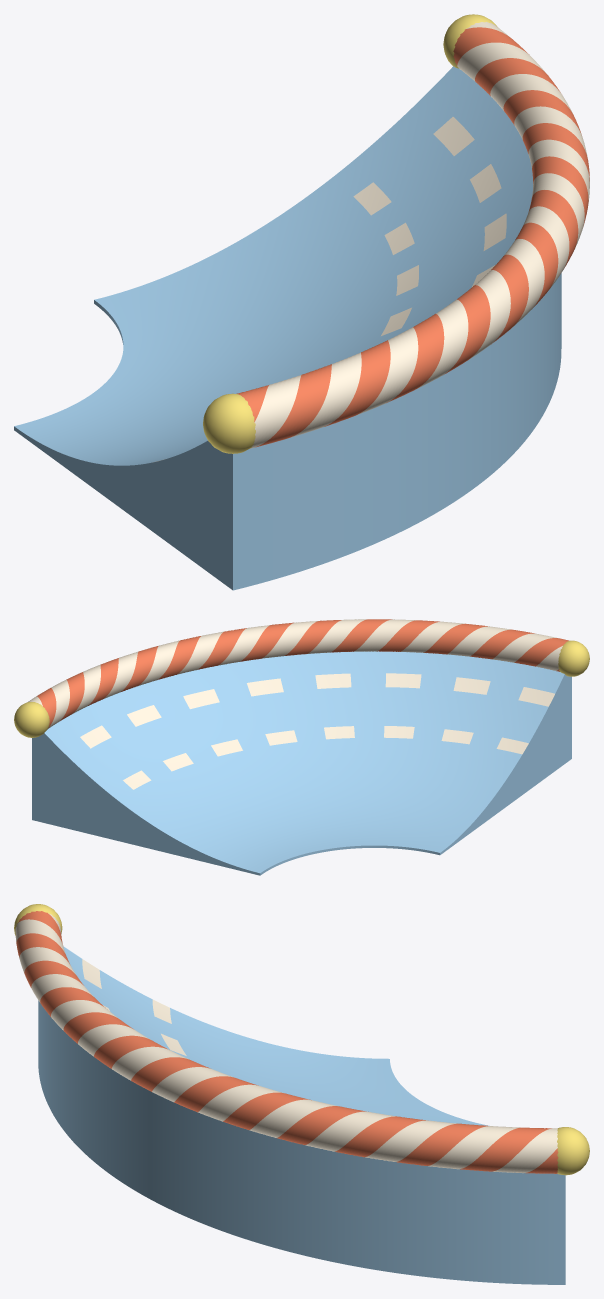
The model's file is rail_curve.glb.
3 views of the same model, one above another, from view 1: azimuth 30°, elevation 25°; view 2: azimuth 150°, elevation 25°; view 3: azimuth 270°, elevation 25° (orthographic). The views are drawn at different scales.
Parts seen in each view (by area): view 1: rail_curve; view 2: rail_curve; view 3: rail_curve.
Boxes of the visible parts, x1,y1,x2,y2 form: rail_curve: (14, 14, 589, 590); rail_curve: (14, 619, 589, 875); rail_curve: (14, 904, 589, 1284).
Bounding box in the file's own units: 3.28 × 0.9778 × 3.28.
